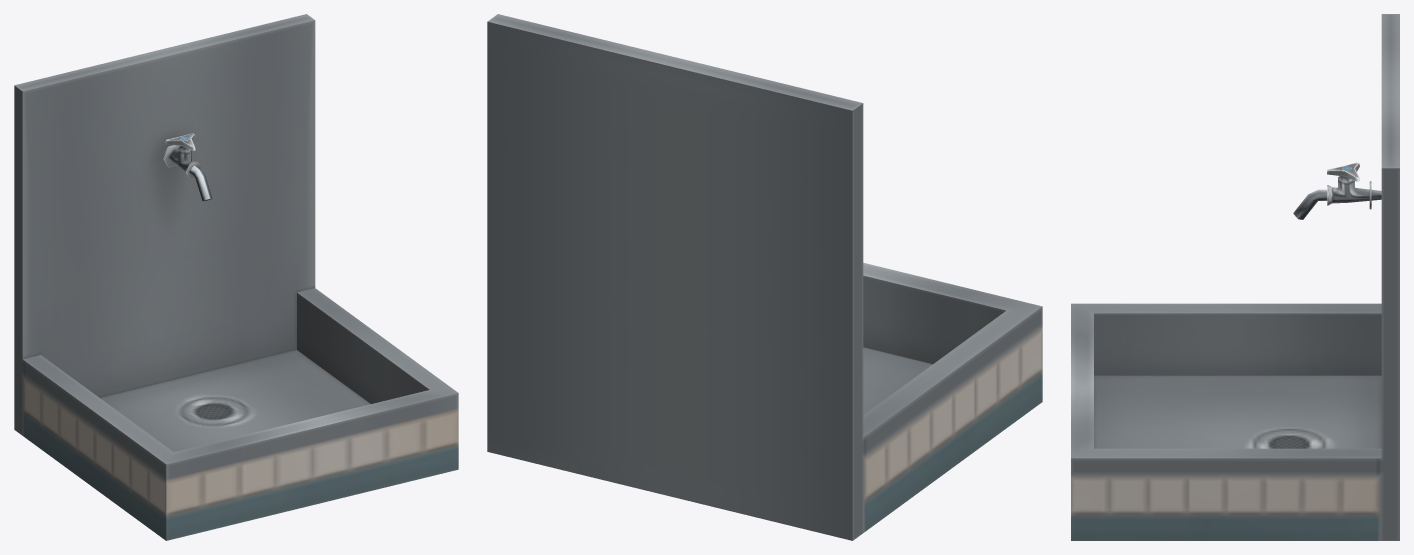
The model's file is SHW_Sink_01_02.fbx.
The picture shows the model from 3 angles, left to right: view 1: azimuth 30°, elevation 25°; view 2: azimuth 150°, elevation 25°; view 3: azimuth 270°, elevation 25°; orthographic projection. The views are drawn at different scales.
Parts seen in each view (by area): view 1: shw_sink_01_02; view 2: shw_sink_01_02; view 3: shw_sink_01_02, shw_sink_nozzle_01_01.
Boxes of the visible parts, x1,y1,x2,y2 form: shw_sink_01_02: (14,14,458,540); shw_sink_01_02: (487,14,1042,540); shw_sink_01_02: (1071,14,1399,540); shw_sink_nozzle_01_01: (1293,189,1327,219).
Bounding box in the file's own units: 80 × 90 × 72.
